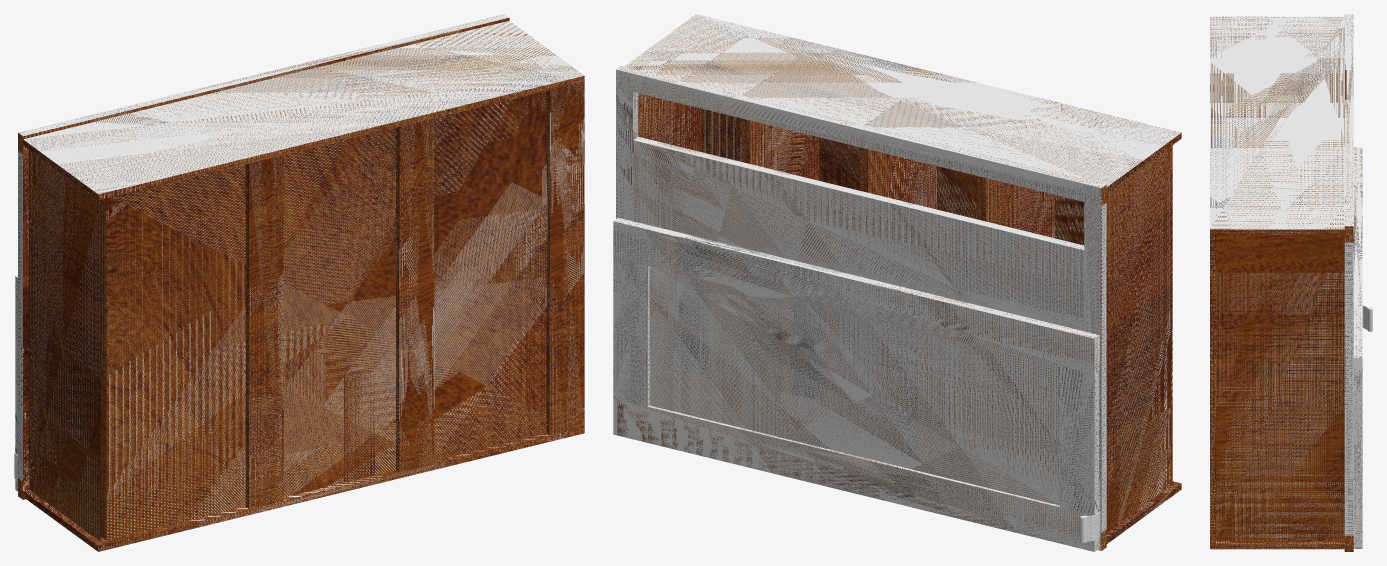
3 renders of one model, left to right at view 1: azimuth 30°, elevation 25°; view 2: azimuth 150°, elevation 25°; view 3: azimuth 270°, elevation 25°, orthographic. The views are drawn at different scales.
Visible parts, largest first — view 1: mesh6_mesh6-geometry, mesh3_mesh3-geometry, mesh8_mesh8-geometry, mesh1_mesh1-geometry, mesh7_mesh7-geometry, mesh9_mesh9-geometry, mesh4_mesh4-geometry, mesh20_mesh20-geometry, mesh2_mesh2-geometry; view 2: mesh17_mesh17-geometry, mesh11_mesh11-geometry, mesh8_mesh8-geometry, mesh1_mesh1-geometry, mesh14_mesh14-geometry, mesh13_mesh13-geometry, mesh9_mesh9-geometry, mesh12_mesh12-geometry, mesh4_mesh4-geometry, mesh5_mesh5-geometry, mesh16_mesh16-geometry, mesh15_mesh15-geometry (+1 smaller); view 3: mesh2_mesh2-geometry, mesh8_mesh8-geometry, mesh4_mesh4-geometry, mesh14_mesh14-geometry, mesh9_mesh9-geometry, mesh3_mesh3-geometry, mesh15_mesh15-geometry, mesh7_mesh7-geometry, mesh13_mesh13-geometry, mesh19_mesh19-geometry.
Part boxes in pixels (x1,y1,x2,y2): mesh6_mesh6-geometry: (106, 91, 546, 540); mesh3_mesh3-geometry: (245, 82, 584, 508); mesh8_mesh8-geometry: (23, 20, 584, 200); mesh1_mesh1-geometry: (29, 150, 100, 541); mesh7_mesh7-geometry: (23, 427, 584, 551); mesh9_mesh9-geometry: (18, 14, 509, 154); mesh4_mesh4-geometry: (18, 151, 28, 481); mesh20_mesh20-geometry: (344, 367, 374, 482); mesh2_mesh2-geometry: (100, 198, 106, 540); mesh17_mesh17-geometry: (649, 266, 1059, 505); mesh11_mesh11-geometry: (633, 137, 1084, 330); mesh8_mesh8-geometry: (624, 14, 1181, 192); mesh1_mesh1-geometry: (638, 93, 1172, 532); mesh14_mesh14-geometry: (613, 217, 1099, 374); mesh13_mesh13-geometry: (613, 398, 1099, 551); mesh9_mesh9-geometry: (616, 66, 1106, 205); mesh12_mesh12-geometry: (741, 118, 1055, 238); mesh4_mesh4-geometry: (616, 88, 1106, 532); mesh5_mesh5-geometry: (702, 109, 1084, 245); mesh16_mesh16-geometry: (1059, 366, 1099, 515); mesh15_mesh15-geometry: (613, 257, 649, 406); mesh2_mesh2-geometry: (1216, 234, 1344, 541); mesh8_mesh8-geometry: (1210, 16, 1344, 234); mesh4_mesh4-geometry: (1344, 242, 1353, 535); mesh14_mesh14-geometry: (1353, 147, 1362, 390); mesh9_mesh9-geometry: (1344, 14, 1353, 242); mesh3_mesh3-geometry: (1210, 234, 1215, 543); mesh15_mesh15-geometry: (1353, 390, 1362, 516); mesh7_mesh7-geometry: (1210, 541, 1344, 549); mesh13_mesh13-geometry: (1353, 516, 1362, 548); mesh19_mesh19-geometry: (1362, 305, 1372, 331).
Bounding box in the file's own units: 0.7868 × 0.562 × 0.2549.
